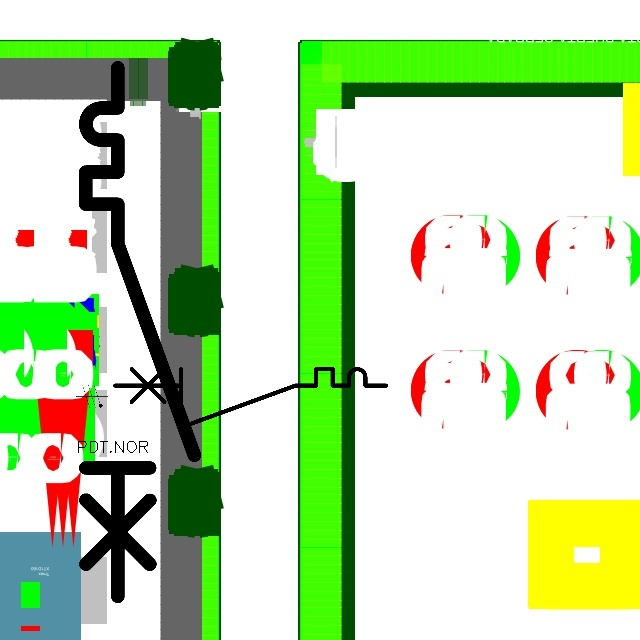interruptor_termomagnetico: (72, 54, 208, 610), (108, 362, 393, 431)
